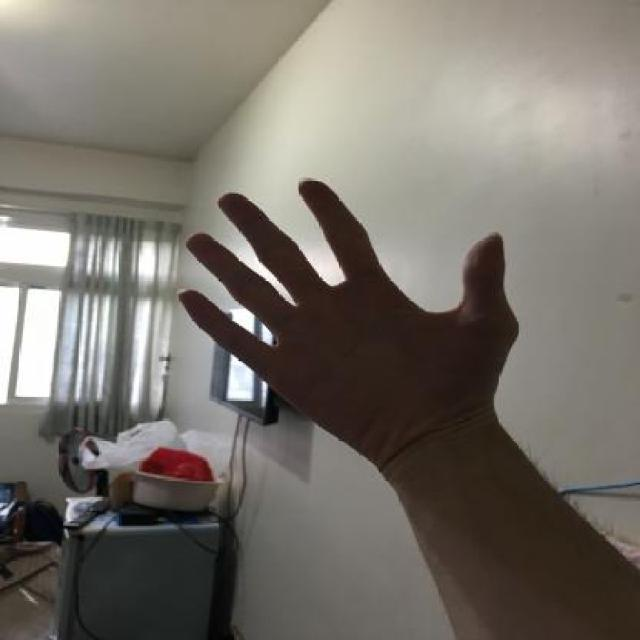bare_hand: (158, 160, 536, 465)
